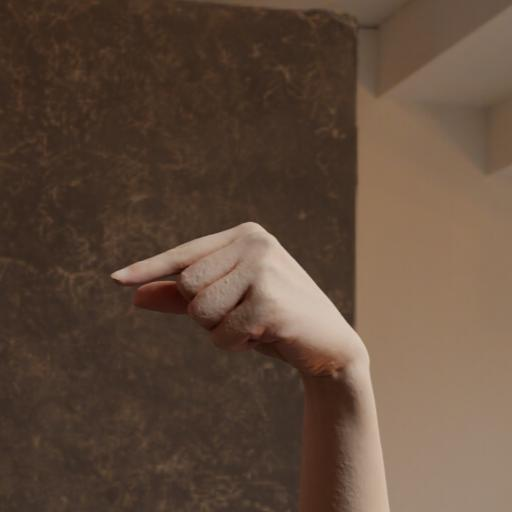G: (97, 200, 408, 512)
